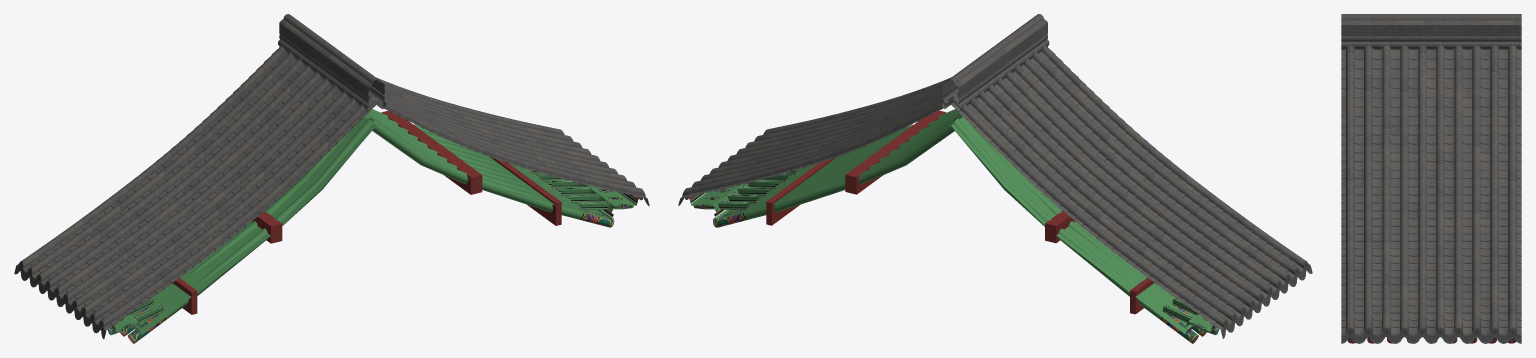
The model's file is SM_Castle_Roof05a.fbx.
3 views of the same model, side by side, from view 1: azimuth 30°, elevation 25°; view 2: azimuth 150°, elevation 25°; view 3: azimuth 270°, elevation 25° (orthographic).
Visible parts, largest first — view 1: SM_Castle_Roof05a; view 2: SM_Castle_Roof05a; view 3: SM_Castle_Roof05a.
Part boxes in pixels (x1,y1,x2,y2): SM_Castle_Roof05a: [14, 14, 649, 343]; SM_Castle_Roof05a: [678, 14, 1312, 343]; SM_Castle_Roof05a: [1341, 14, 1521, 343].
Bounding box in the file's own units: 1059 × 300 × 389.
Materials: 2 (2 with a texture image).
